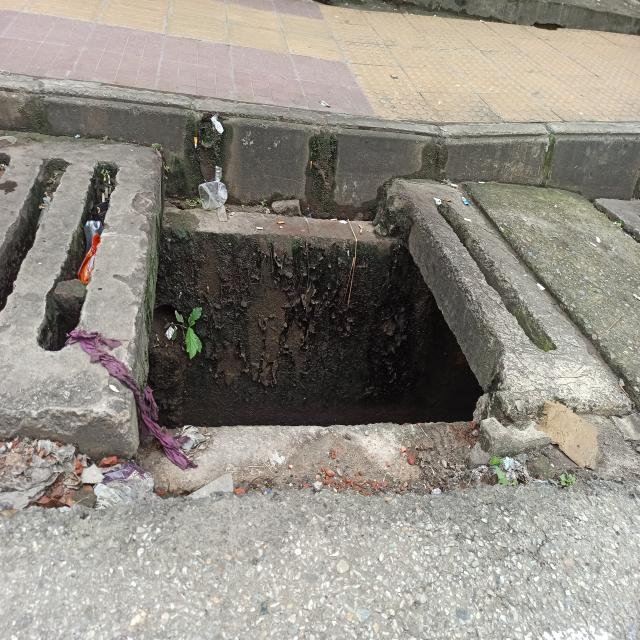drain_inlet: (139, 219, 485, 426)
